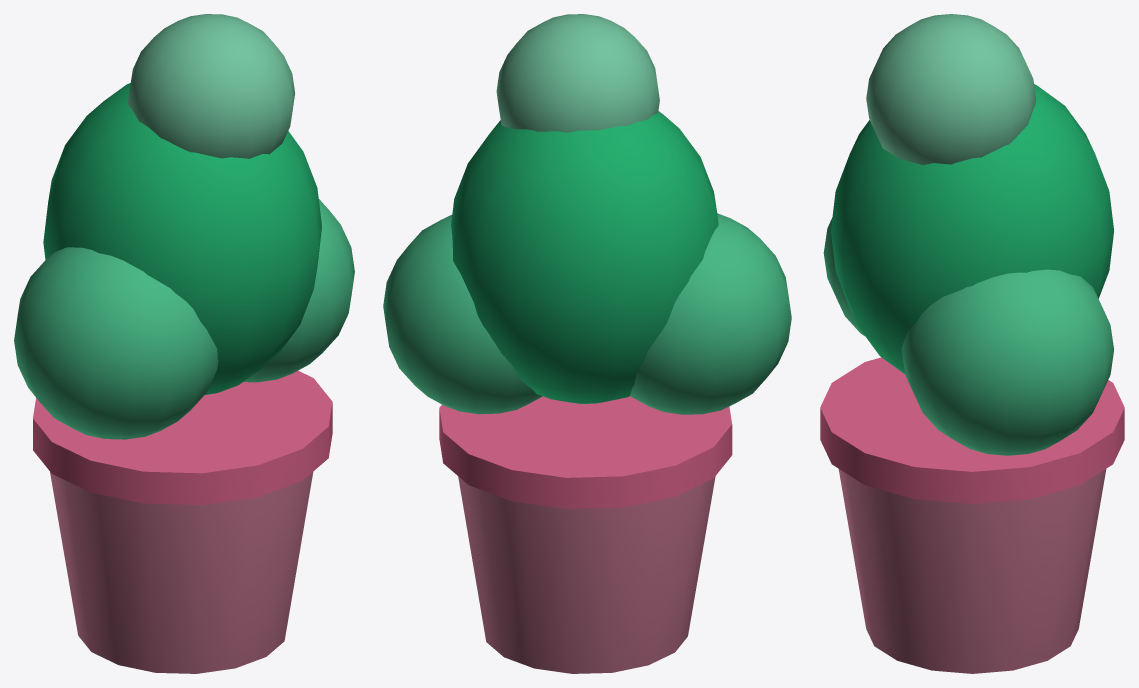
File: plant.glb
3 renders of one model, left to right at view 1: azimuth 30°, elevation 25°; view 2: azimuth 150°, elevation 25°; view 3: azimuth 270°, elevation 25°, orthographic. The views are drawn at different scales.
Parts seen in each view (by area): view 1: plant; view 2: plant; view 3: plant.
Part boxes in pixels (bbox=[...]): plant: bbox=[14, 14, 354, 673]; plant: bbox=[383, 14, 791, 673]; plant: bbox=[820, 14, 1124, 673].
Bounding box in the file's own units: 0.58 × 0.96 × 0.43.
